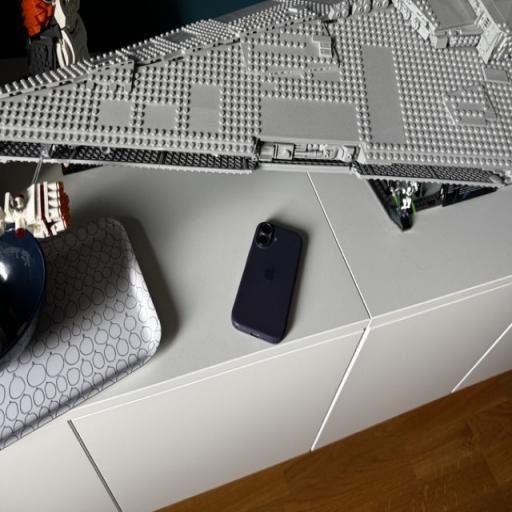phone: (233, 207, 328, 368)
